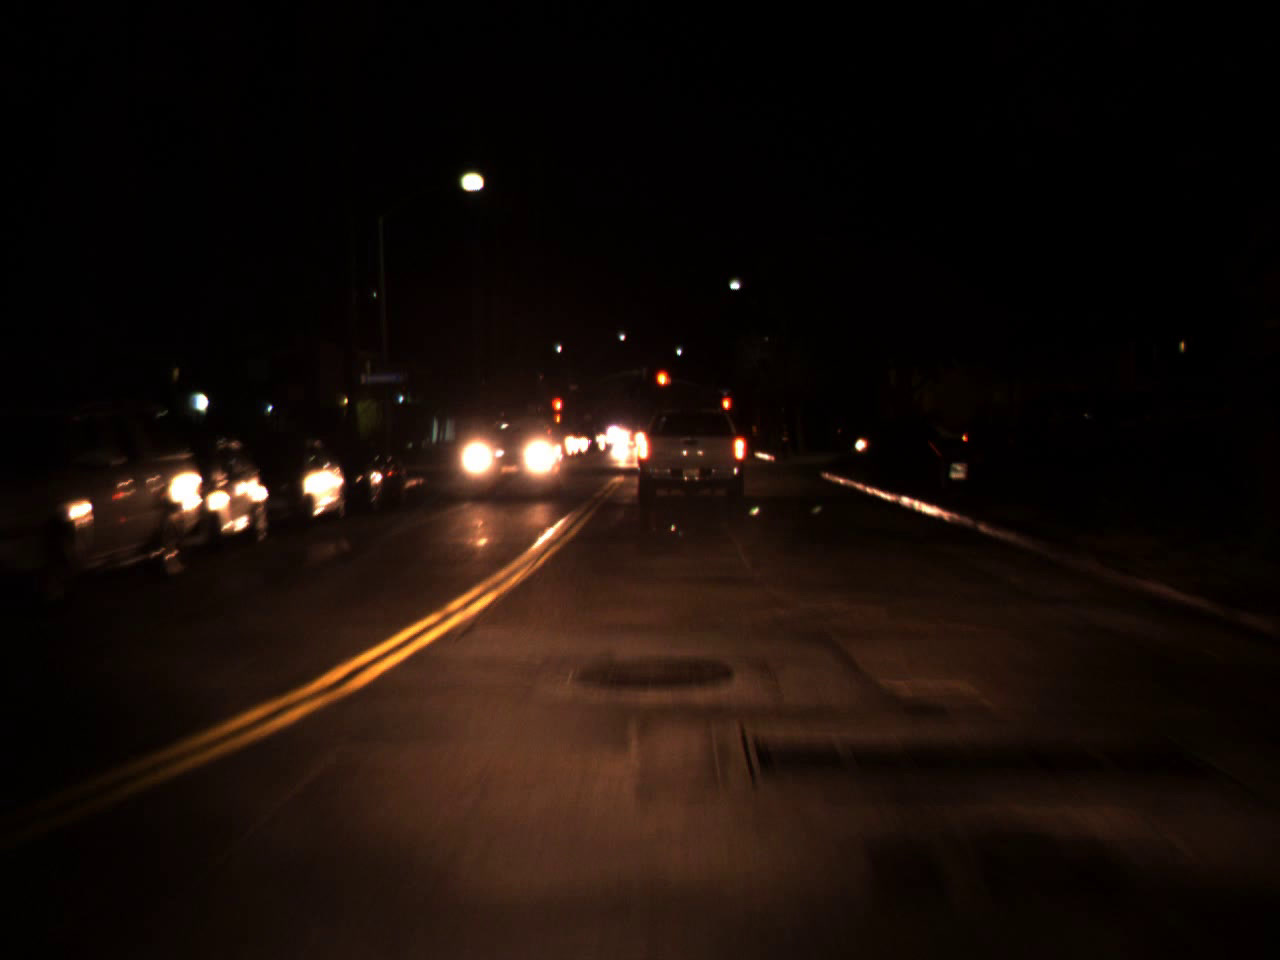stop: (655, 368, 670, 403), (549, 395, 564, 427), (721, 395, 731, 427)
